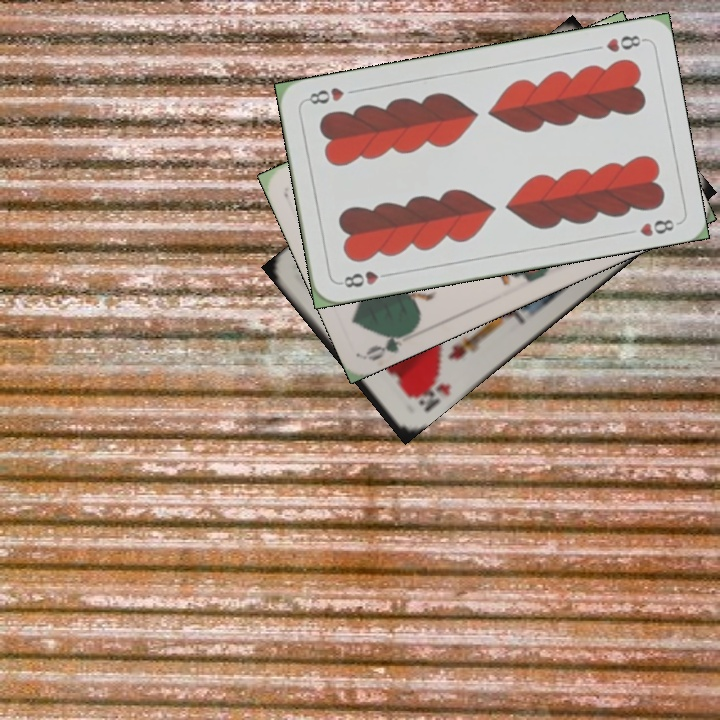GO: (363, 323, 418, 364)
H8: (335, 267, 394, 290), (602, 31, 647, 55)
HK: (405, 370, 454, 415)
